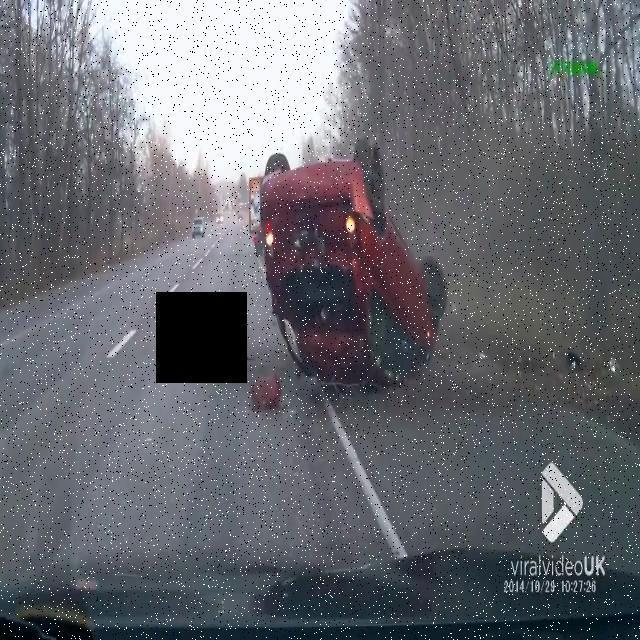single accident: (222, 133, 444, 394)
